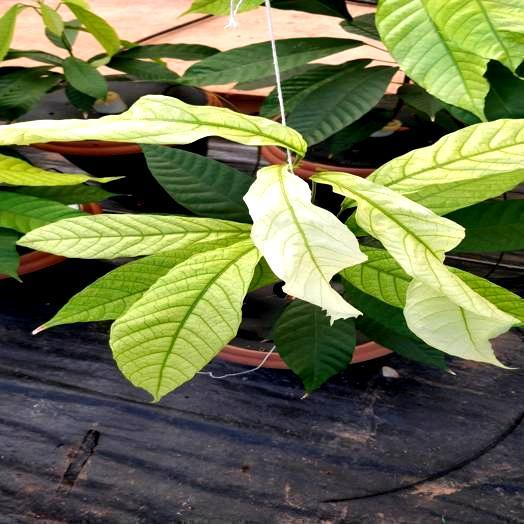Healthy Leaf: (344, 280, 443, 368), (142, 145, 253, 222), (288, 66, 393, 145), (273, 299, 355, 392), (182, 41, 273, 85), (448, 200, 523, 250), (0, 192, 86, 232), (0, 67, 59, 119), (282, 65, 345, 113), (279, 37, 360, 71), (108, 55, 178, 81), (64, 56, 106, 98), (114, 44, 219, 60), (0, 228, 18, 277), (261, 88, 276, 115)
Iron: (317, 175, 515, 326), (110, 240, 258, 400), (245, 165, 366, 323), (0, 95, 306, 155), (34, 241, 217, 332), (370, 119, 523, 214), (376, 0, 488, 119), (20, 214, 249, 258), (403, 281, 510, 368), (429, 0, 523, 71), (344, 246, 410, 307), (65, 0, 119, 55), (0, 154, 95, 185)
